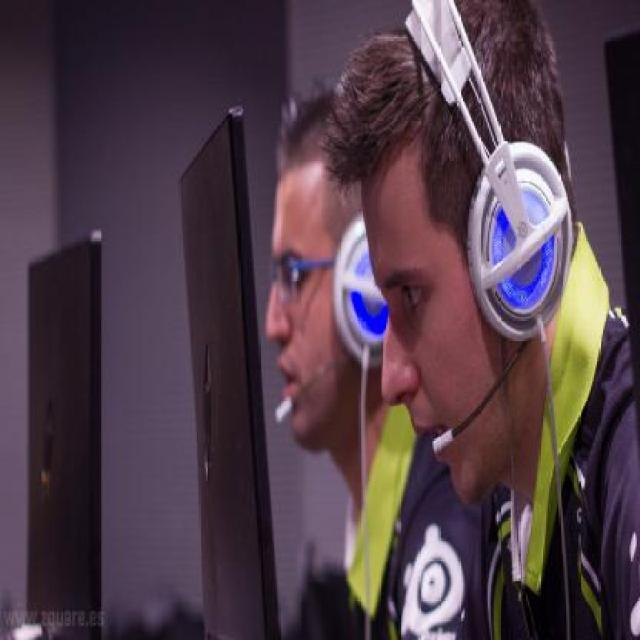earphone: (402, 0, 568, 351), (326, 194, 405, 352)
